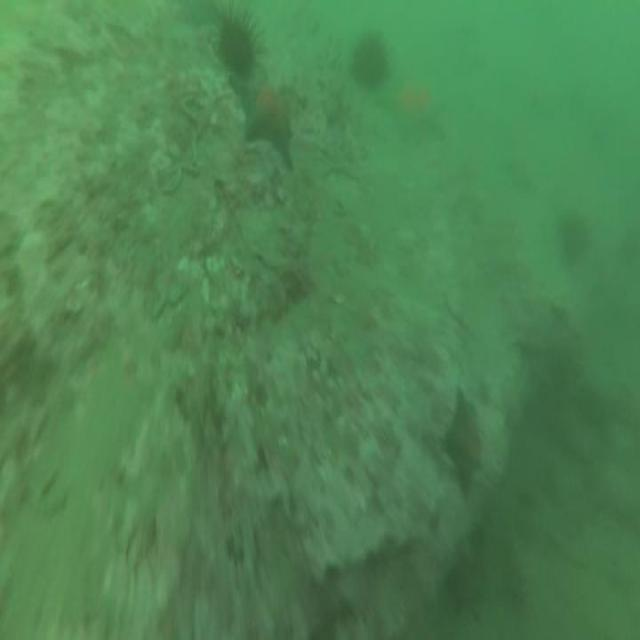echinus: (210, 0, 266, 87), (351, 28, 389, 98), (556, 207, 596, 270)
starfish: (228, 71, 298, 169), (377, 79, 453, 147), (444, 384, 486, 503)
